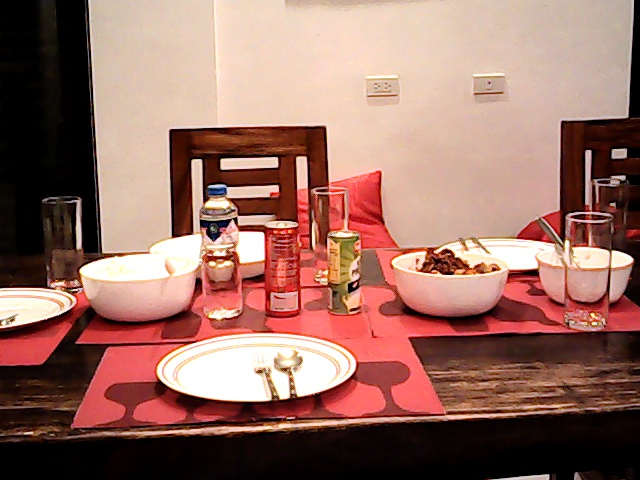Cola: (260, 215, 308, 321)
Pine Juice: (321, 225, 367, 323)
Summit Water: (197, 181, 246, 319)
